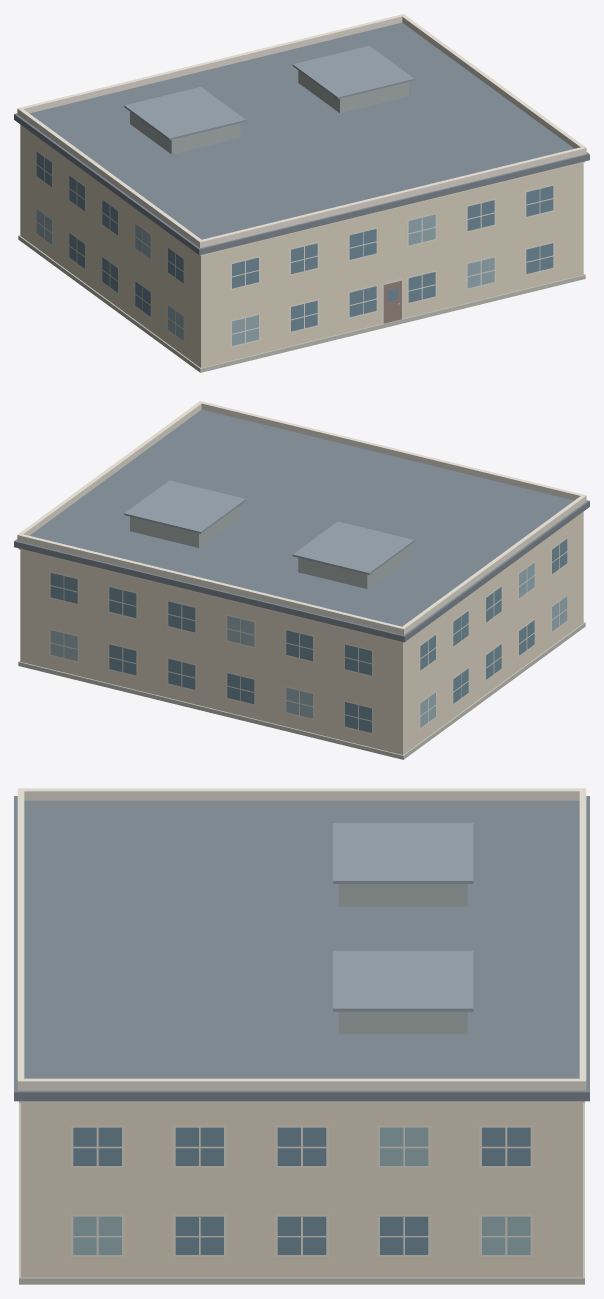
The model's file is office-low.glb.
The picture shows the model from 3 angles, top to bottom: view 1: azimuth 30°, elevation 25°; view 2: azimuth 150°, elevation 25°; view 3: azimuth 270°, elevation 25°; orthographic projection. The views are drawn at different scales.
Parts seen in each view (by area): view 1: office-low; view 2: office-low; view 3: office-low.
Part boxes in pixels (bbox=[...]): office-low: bbox=[14, 14, 589, 372]; office-low: bbox=[14, 401, 589, 759]; office-low: bbox=[14, 788, 589, 1284].
Size of the model in its own units: 22.45 by 7.87 by 18.45.
